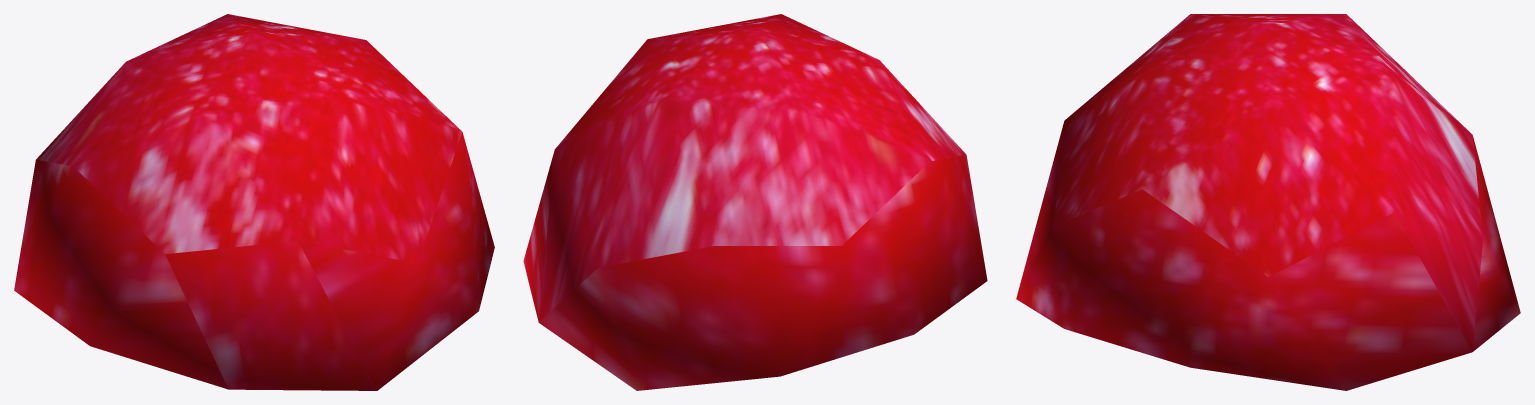
Rendered from CandyGumDropDarkRed.fbx.
The picture shows the model from 3 angles, left to right: view 1: azimuth 30°, elevation 25°; view 2: azimuth 150°, elevation 25°; view 3: azimuth 270°, elevation 25°; orthographic projection. The views are drawn at different scales.
Parts seen in each view (by area): view 1: Icosphere.004; view 2: Icosphere.004; view 3: Icosphere.004.
Part boxes in pixels (left/top/right/bottom): Icosphere.004: left=14, top=14, right=494, bottom=390; Icosphere.004: left=523, top=14, right=987, bottom=390; Icosphere.004: left=1016, top=14, right=1520, bottom=390.
Bounding box in the file's own units: 190 × 131 × 200.
